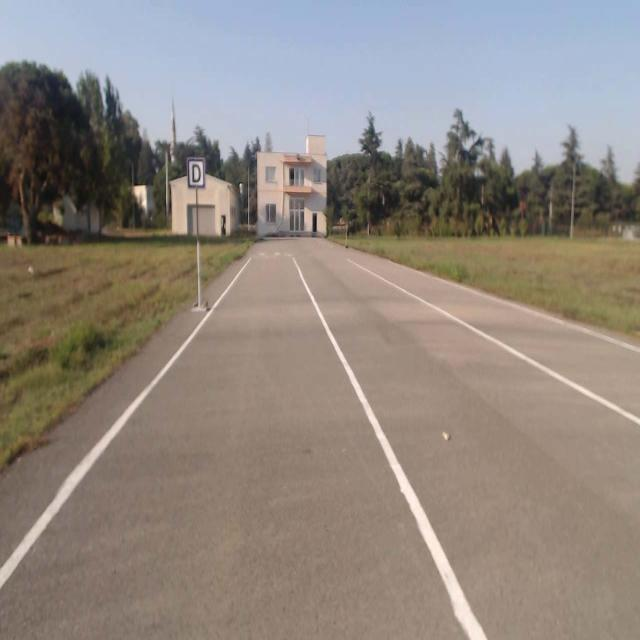durak: (187, 158, 205, 188)
